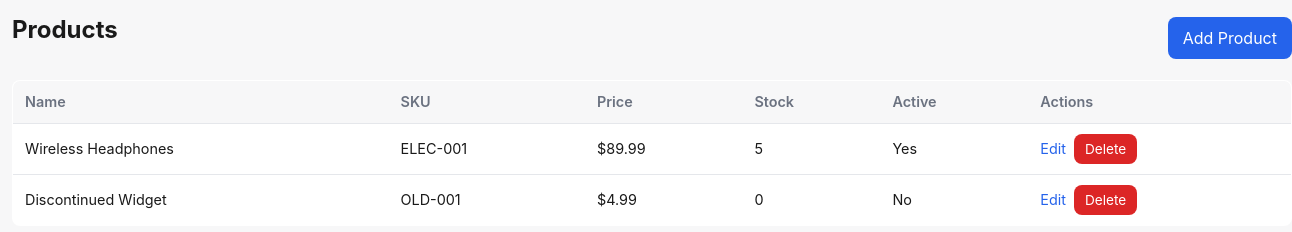
Test case: AdminProductList › removes a product from the list after a successful delete
Expected: the text "Wireless Headphones" is shown, [12,123,389,174]
Click the button "Delete" in the row of "Wireless Headphones". click: (1106, 149)
box: [1074,134,1137,164]
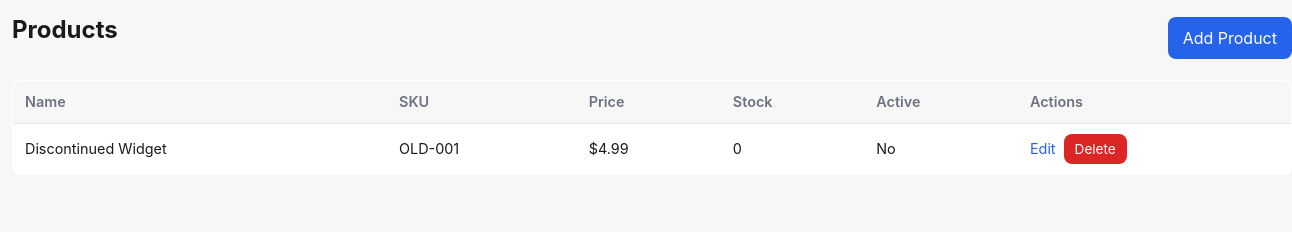
Expected: the text "Wireless Headphones" is gone
